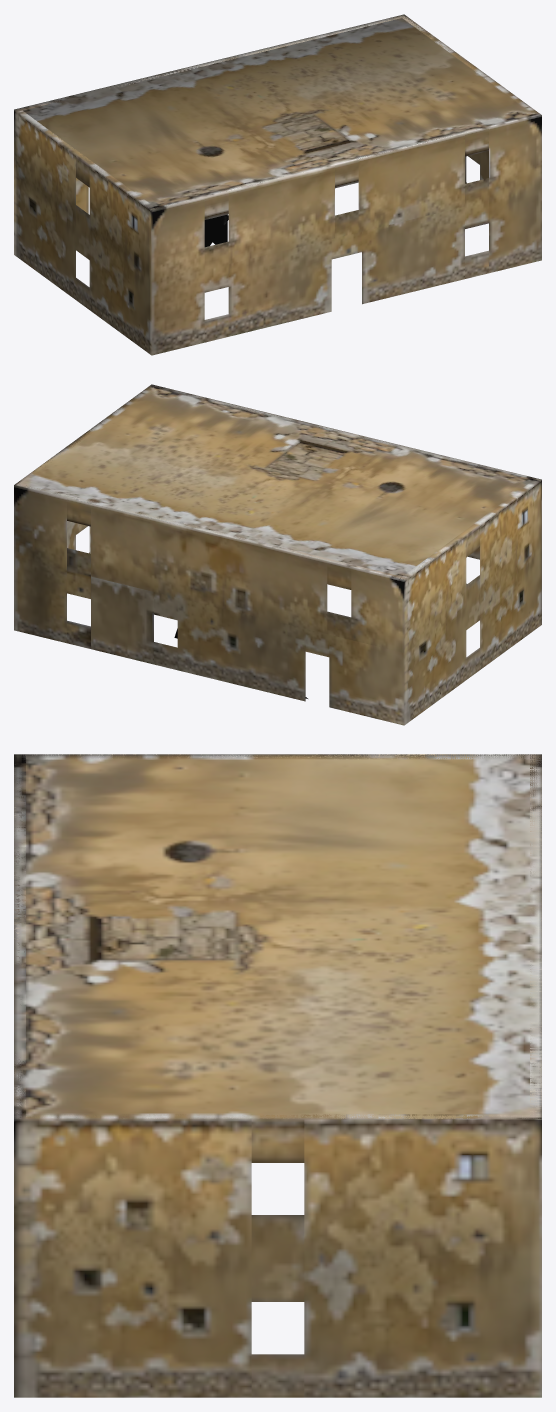
File: skin_vineyard_28_-38.glb
3 views of the same model, one above another, from view 1: azimuth 30°, elevation 25°; view 2: azimuth 150°, elevation 25°; view 3: azimuth 270°, elevation 25° (orthographic). The views are drawn at different scales.
Visible parts, largest first — view 1: vineyard_28_-38; view 2: vineyard_28_-38; view 3: vineyard_28_-38.
Boxes of the visible parts, x1,y1,x2,y2 form: vineyard_28_-38: (14,14,541,355); vineyard_28_-38: (14,384,541,725); vineyard_28_-38: (14,754,541,1397).
Size of the model in its own units: 18 by 6.4 by 11.
Materials: 1 (1 with a texture image).
